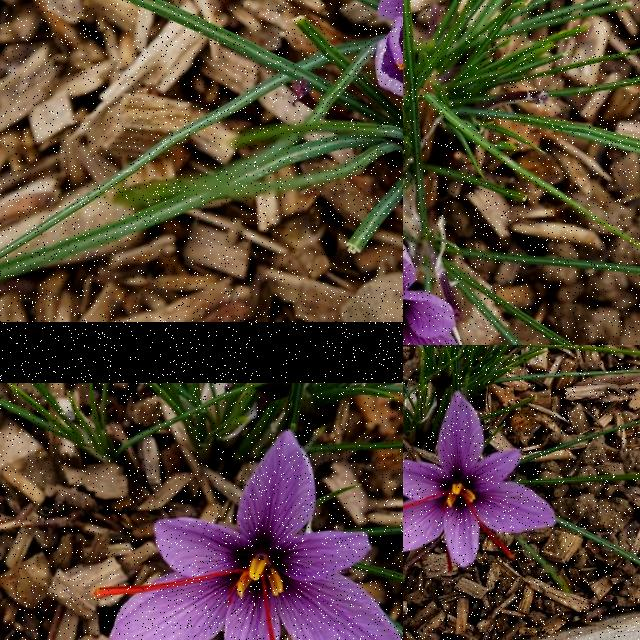flower: (94, 432, 403, 640), (403, 391, 557, 573)
